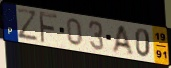0: (65, 18, 84, 48), (134, 28, 151, 59)
3: (88, 19, 106, 53)
A: (110, 25, 135, 56)
F: (38, 10, 59, 45)
Z: (15, 7, 40, 42)
